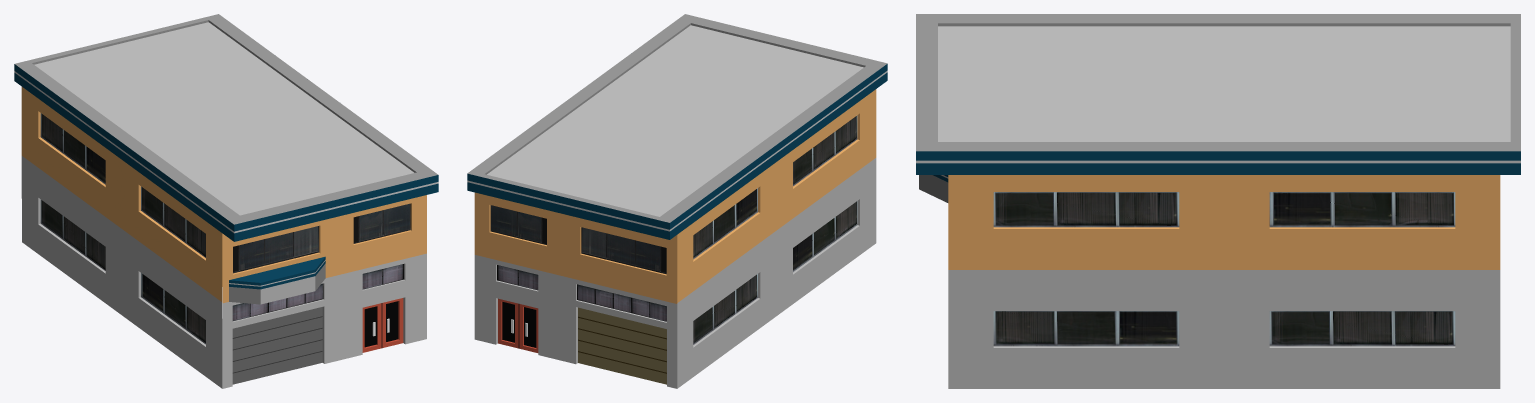
3 renders of one model, left to right at view 1: azimuth 30°, elevation 25°; view 2: azimuth 150°, elevation 25°; view 3: azimuth 270°, elevation 25°, orthographic. The views are drawn at different scales.
Parts seen in each view (by area): view 1: BB-038; view 2: BB-038; view 3: BB-038.
Part boxes in pixels (box(x1,y1,x2,y2)): BB-038: box(14, 14, 438, 388); BB-038: box(467, 14, 887, 388); BB-038: box(916, 14, 1520, 388).
Size of what is drawn, in the model's own units: 10 by 8.08 by 18.62.
